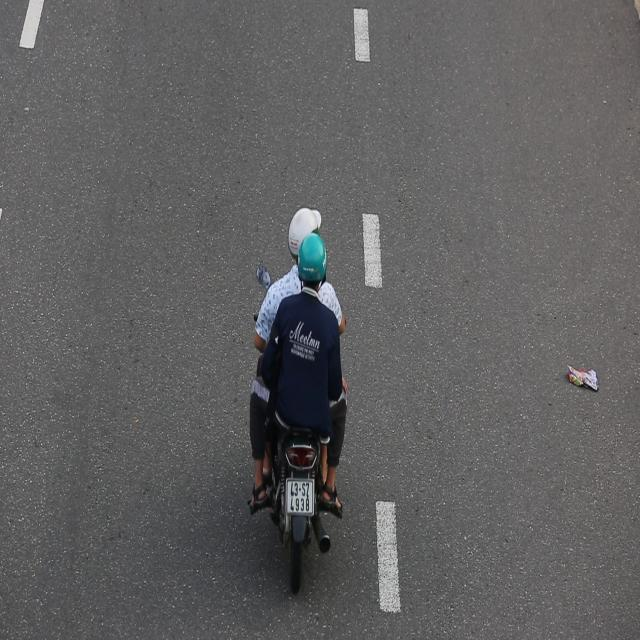motorbike: (243, 201, 352, 605)
